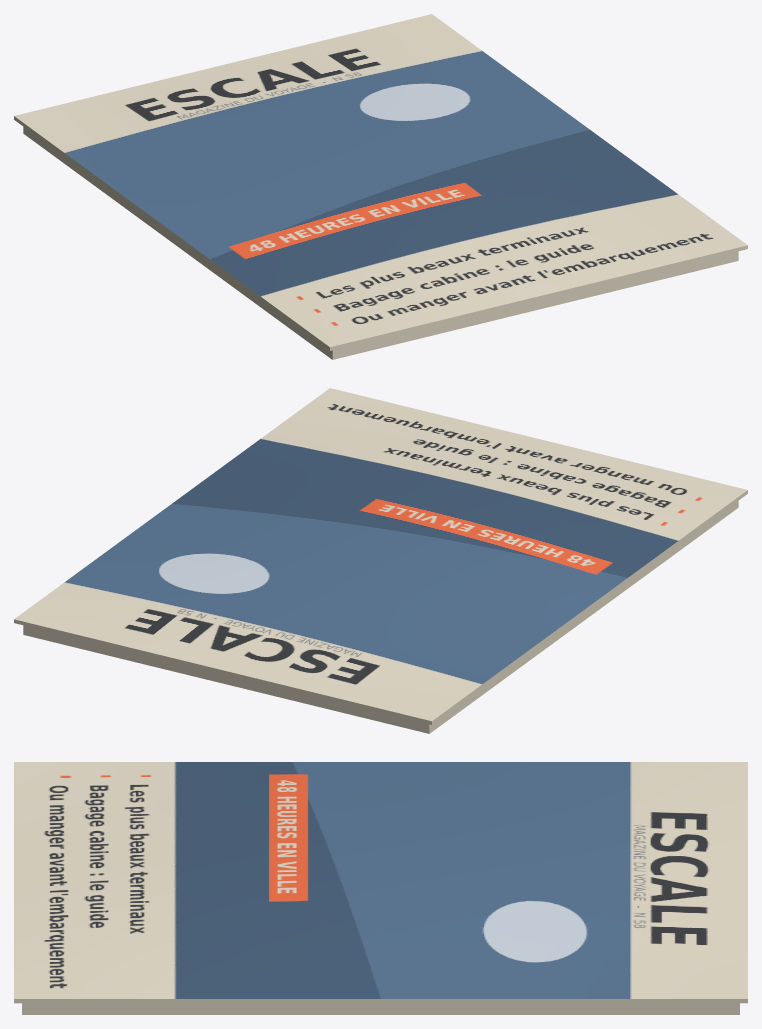
File: magazine.glb
3 renders of one model, top to bottom at view 1: azimuth 30°, elevation 25°; view 2: azimuth 150°, elevation 25°; view 3: azimuth 270°, elevation 25°, orthographic. The views are drawn at different scales.
Parts seen in each view (by area): view 1: MAG_Couverture, MAG_Papier_Creme; view 2: MAG_Couverture, MAG_Papier_Creme; view 3: MAG_Couverture, MAG_Papier_Creme.
Part boxes in pixels (x1,y1,x2,y2): MAG_Couverture: (14, 14, 747, 350); MAG_Papier_Creme: (23, 127, 738, 359); MAG_Couverture: (14, 388, 747, 724); MAG_Papier_Creme: (23, 501, 738, 733); MAG_Couverture: (14, 762, 747, 1003); MAG_Papier_Creme: (22, 1003, 739, 1014).
Size of the model in its own units: 0.21 by 0.0125 by 0.275.
Materials: 2 (1 with a texture image).
